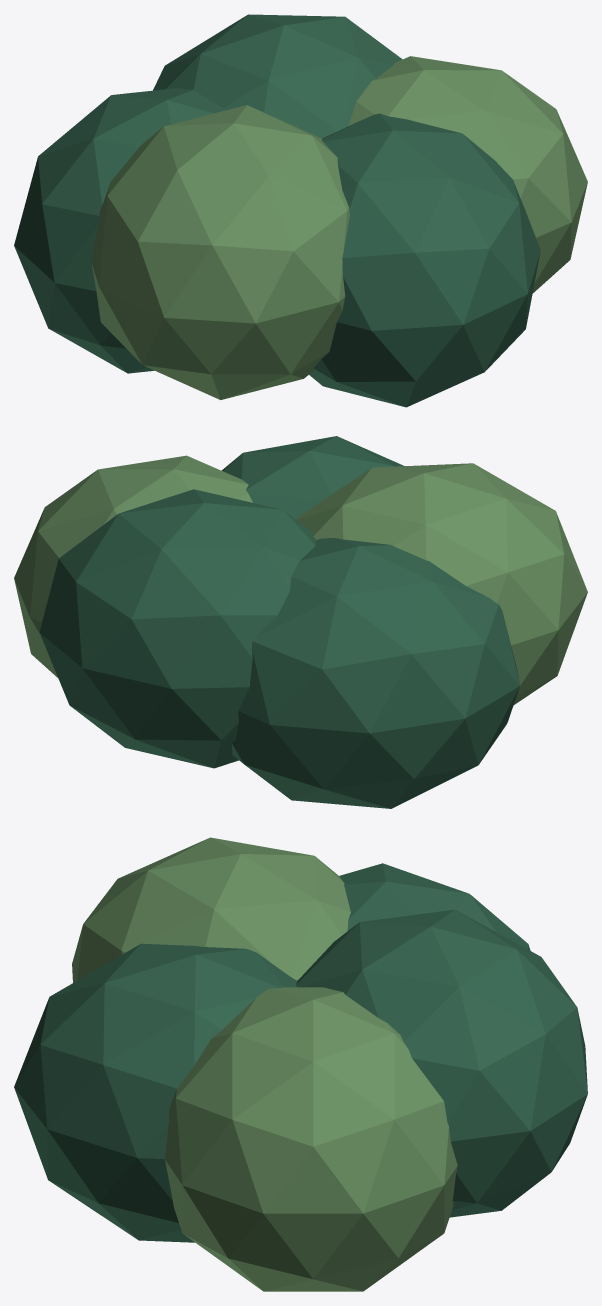
The model's file is PirateCove_Bush_Standard.glb.
3 views of the same model, one above another, from view 1: azimuth 30°, elevation 25°; view 2: azimuth 150°, elevation 25°; view 3: azimuth 270°, elevation 25° (orthographic). The views are drawn at different scales.
Parts seen in each view (by area): view 1: PirateCove_Bush_Standard; view 2: PirateCove_Bush_Standard; view 3: PirateCove_Bush_Standard.
Boxes of the visible parts, bbox=[...] form: PirateCove_Bush_Standard: bbox=[14, 14, 587, 407]; PirateCove_Bush_Standard: bbox=[14, 436, 587, 808]; PirateCove_Bush_Standard: bbox=[14, 837, 587, 1291].
Bounding box in the file's own units: 1.63 × 0.88 × 1.49.
